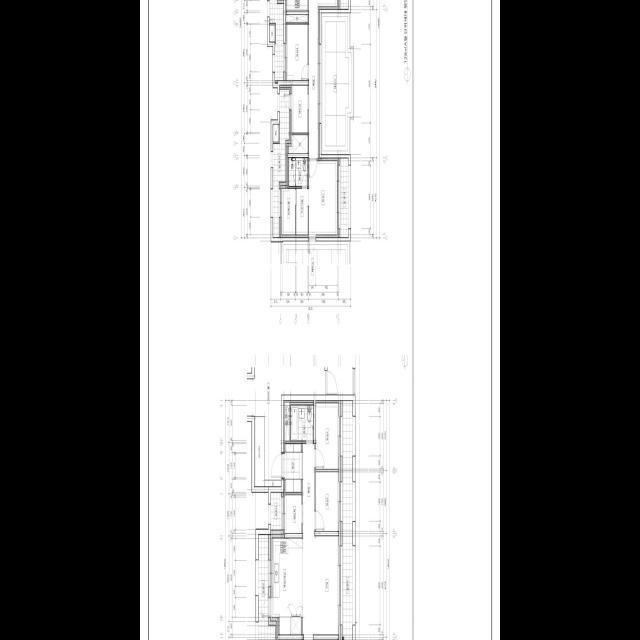background: (140, 0, 500, 640)
space_balconi: (342, 400, 353, 640), (273, 89, 289, 237), (259, 534, 275, 640), (269, 0, 284, 80), (340, 158, 348, 237), (271, 492, 281, 529)
space_bedroom: (309, 158, 338, 237), (316, 400, 340, 468), (316, 471, 340, 530), (285, 24, 308, 80)
space_dressroom: (281, 185, 295, 237), (296, 188, 308, 237)
space_elevator_hall: (247, 366, 325, 479)
space_front: (282, 443, 303, 492)
space_kitchen: (271, 534, 303, 634)
space_living_room: (303, 443, 340, 634), (309, 0, 338, 158)
space_other: (291, 85, 308, 132), (283, 495, 302, 533), (254, 416, 264, 486), (289, 134, 308, 153), (284, 400, 290, 440), (285, 14, 308, 22), (273, 124, 279, 141), (265, 480, 281, 486), (270, 24, 275, 41)
space_toilet: (291, 404, 314, 440), (289, 157, 308, 185)
